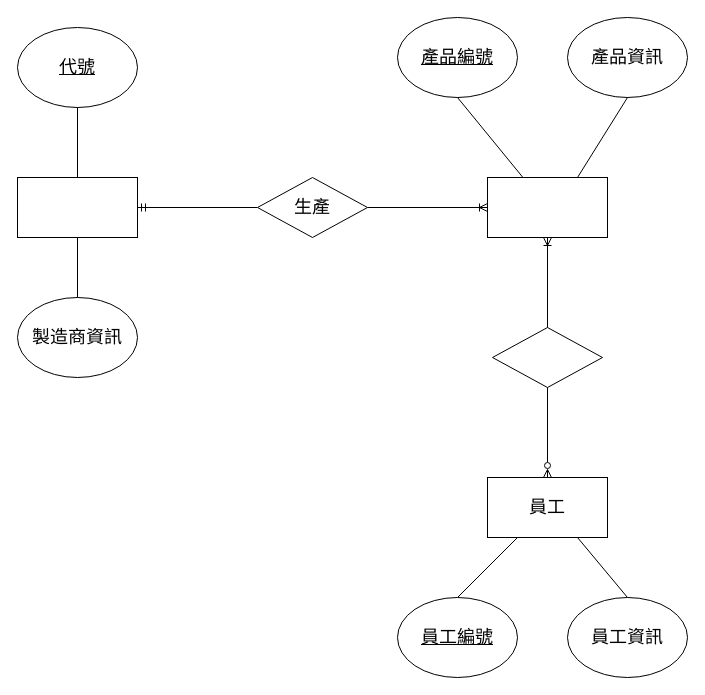
The diagram is 705 pixels wide and 695 high, and some of its shapes have lost their labels. The shapes that lost their labels are listed below. From the top down, each one's box as (x1, y1, x2, y2) in pixels, then its label:
(16, 176, 138, 238): 製造商
(486, 176, 608, 238): 產品
(492, 326, 602, 388): 銷售
